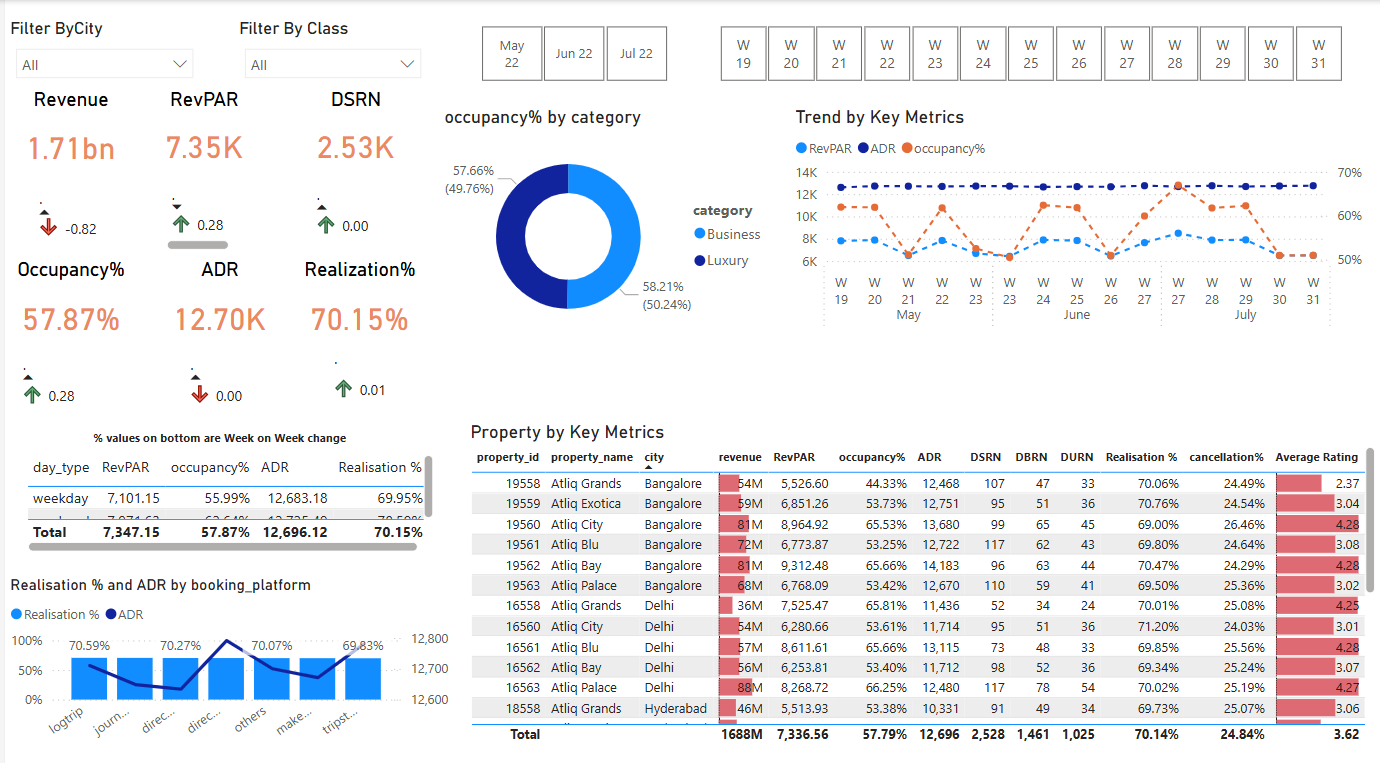

This screenshot's page, from the dashboard's own definition file:
{"tool":"powerbi","page":{"name":"Page 1","canvas":[1800,1100],"ordinal":0},"visuals":[{"type":"shape","box":[34.3,977.8,1749.6,89.9],"z":0},{"type":"shape","box":[34.3,186.4,603.4,487.3],"z":1000},{"type":"tableEx","fields":{"Values":["key_measures.\"Revenue WoW change %"]},"box":[93.8,237.5,74.7,86.8],"z":2000},{"type":"tableEx","fields":{"Values":["dim_date.day_type","key_measures.RevPAR","key_measures.occupancy %","key_measures.ADR","key_measures.Realisation %"]},"box":[114.5,533.1,402.3,121],"z":3000},{"type":"card","title":"Revenue","fields":{"Values":["key_measures.REVENUE"]},"box":[67.7,199.3,135.4,66],"z":4000},{"type":"tableEx","fields":{"Values":["key_measures.\"Revenue WoW change %"]},"box":[283,232.6,74.7,74.7],"z":5000},{"type":"card","title":"RevPar","fields":{"Values":["key_measures.RevPAR"]},"box":[230.9,197.9,178.8,67.7],"z":6000},{"type":"tableEx","fields":{"Values":["key_measures.\"Revenue WoW change %"]},"box":[477.4,248.3,74.7,81.6],"z":7000},{"type":"tableEx","fields":{"Values":["key_measures.\"Revenue WoW change %"]},"box":[86.8,387.2,74.7,81.6],"z":8000},{"type":"card","title":"Occupancy %","fields":{"Values":["key_measures.occupancy %"]},"box":[43.4,333,177.1,81.6],"z":9000},{"type":"tableEx","fields":{"Values":["key_measures.\"Revenue WoW change %"]},"box":[292.7,387.5,75.2,81.8],"z":10000},{"type":"card","title":"ADR","fields":{"Values":["key_measures.ADR"]},"box":[256.9,333.3,135.4,67.7],"z":11000},{"type":"tableEx","fields":{"Values":["key_measures.\"Revenue WoW change %"]},"box":[477.5,387.5,75.2,81.8],"z":12000},{"type":"card","title":"Realisation %","fields":{"Values":["key_measures.Realisation %"]},"box":[428.8,329.9,177.1,88.5],"z":13000},{"type":"card","title":"DSRN","fields":{"Values":["key_measures.DSRN"]},"box":[425.1,196.2,178.2,83.4],"z":14000},{"type":"shape","box":[29.4,67,608.3,101.4],"z":15000},{"type":"slicer","title":"Filter By City","fields":{"Values":["dim_hotel.city"]},"box":[128.5,90.3,163.2,74.7],"z":16000},{"type":"slicer","title":"Filter By Room Type","fields":{"Values":["dim_rooms.room_class"]},"box":[376.7,93.8,168.4,71.2],"z":17000},{"type":"lineStackedColumnComboChart","fields":{"Category":["fact_bookings.booking_platform"],"Y":["key_measures.Realisation %"],"Y2":["key_measures.ADR"]},"box":[36,691.7,601.7,256.7],"z":18000},{"type":"shape","box":[652.4,67,1136.4,101.4],"z":19000},{"type":"slicer","fields":{"Values":["dim_date.week no"]},"box":[984.4,83.4,765.3,65.4],"z":20000},{"type":"slicer","fields":{"Values":["dim_date.mmm yy"]},"box":[691.7,83.4,292.7,65.4],"z":21000},{"type":"shape","box":[654.1,176.6,464.4,230.6],"z":22000},{"type":"donutChart","title":"% Revenue by category","fields":{"Category":["dim_hotel.category"],"Y":["key_measures.occupancy %"]},"box":[672.1,189.7,426.8,201.1],"z":23000},{"type":"shape","box":[1129.9,179.9,655.7,227.3],"z":24000},{"type":"lineChart","title":"Trends By Key Matrics","fields":{"Category":["dim_date.mmm yy.Variation.Date Hierarchy.Month","dim_date.week no"],"Y":["key_measures.RevPAR","key_measures.ADR"],"Y2":["key_measures.occupancy %"]},"box":[1151.2,191.3,613.2,197.9],"z":25000},{"type":"tableEx","fields":{"Values":["dim_date.week no"]},"box":[1784.4,708.5,15.6,19.1],"z":26000},{"type":"shape","box":[652.4,415.3,1136.4,533.1],"z":27000},{"type":"tableEx","title":"Property By Key Metrics","fields":{"Values":["dim_hotel.property_id","dim_hotel.property_name","dim_hotel.city","key_measures.REVENUE","key_measures.RevPAR","key_measures.occupancy %","key_measures.ADR","key_measures.DSRN","key_measures.DBRN","key_measures.DURN","key_measures.Realisation %","key_measures.Cancellation %"]},"box":[672.1,430.1,1113.6,518.4],"z":28000},{"type":"tableEx","fields":{"Values":["dim_date.week no"]},"box":[1267,727.6,12.2,12.2],"z":29000},{"type":"textbox","box":[181.5,990.9,1602.5,63.8],"z":30000}]}

Visuals, with their boxes on the page's 1800x1100 design canvas (x1, y1, x2, y2). These are canvas units, not pixel positions in the 1380x763 screenshot, which may show the page scaled, cropped or inside an application window:
shape: [34,978,1784,1068]
shape: [34,186,638,674]
tableEx - key_measures."Revenue WoW change %: [94,238,168,324]
tableEx - dim_date.day_type x key_measures.RevPAR: [114,533,517,654]
"Revenue" card: [68,199,203,265]
tableEx - key_measures."Revenue WoW change %: [283,233,358,307]
"RevPar" card: [231,198,410,266]
tableEx - key_measures."Revenue WoW change %: [477,248,552,330]
tableEx - key_measures."Revenue WoW change %: [87,387,162,469]
"Occupancy %" card: [43,333,220,415]
tableEx - key_measures."Revenue WoW change %: [293,388,368,469]
"ADR" card: [257,333,392,401]
tableEx - key_measures."Revenue WoW change %: [478,388,553,469]
"Realisation %" card: [429,330,606,418]
"DSRN" card: [425,196,603,280]
shape: [29,67,638,168]
"Filter By City" slicer: [128,90,292,165]
"Filter By Room Type" slicer: [377,94,545,165]
lineStackedColumnComboChart - fact_bookings.booking_platform x key_measures.Realisation %: [36,692,638,948]
shape: [652,67,1789,168]
slicer - dim_date.week no: [984,83,1750,149]
slicer - dim_date.mmm yy: [692,83,984,149]
shape: [654,177,1118,407]
"% Revenue by category" donutChart: [672,190,1099,391]
shape: [1130,180,1786,407]
"Trends By Key Matrics" lineChart: [1151,191,1764,389]
tableEx - dim_date.week no: [1784,708,1800,728]
shape: [652,415,1789,948]
"Property By Key Metrics" tableEx: [672,430,1786,948]
tableEx - dim_date.week no: [1267,728,1279,740]
textbox: [182,991,1784,1055]
